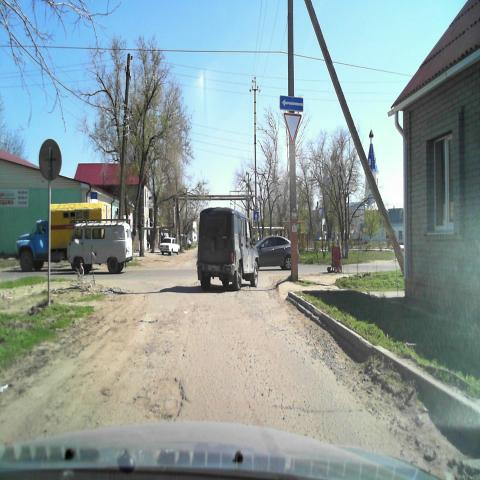5_7_2: (278, 94, 302, 111)
